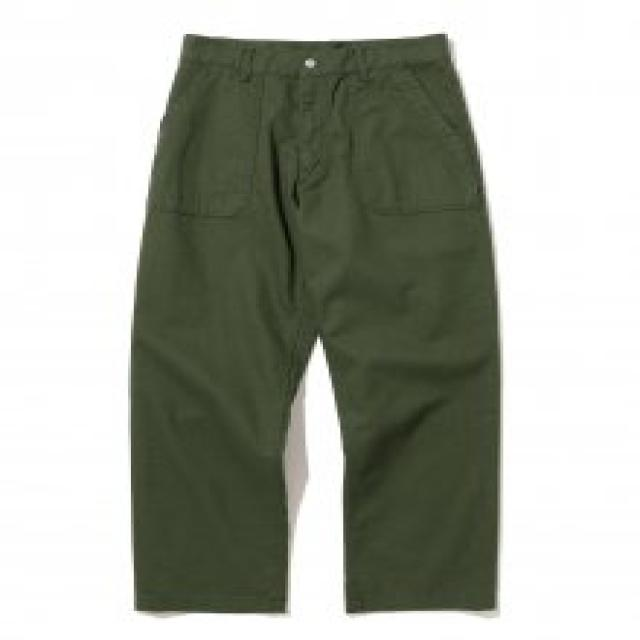long-pants: (134, 36, 500, 616)
